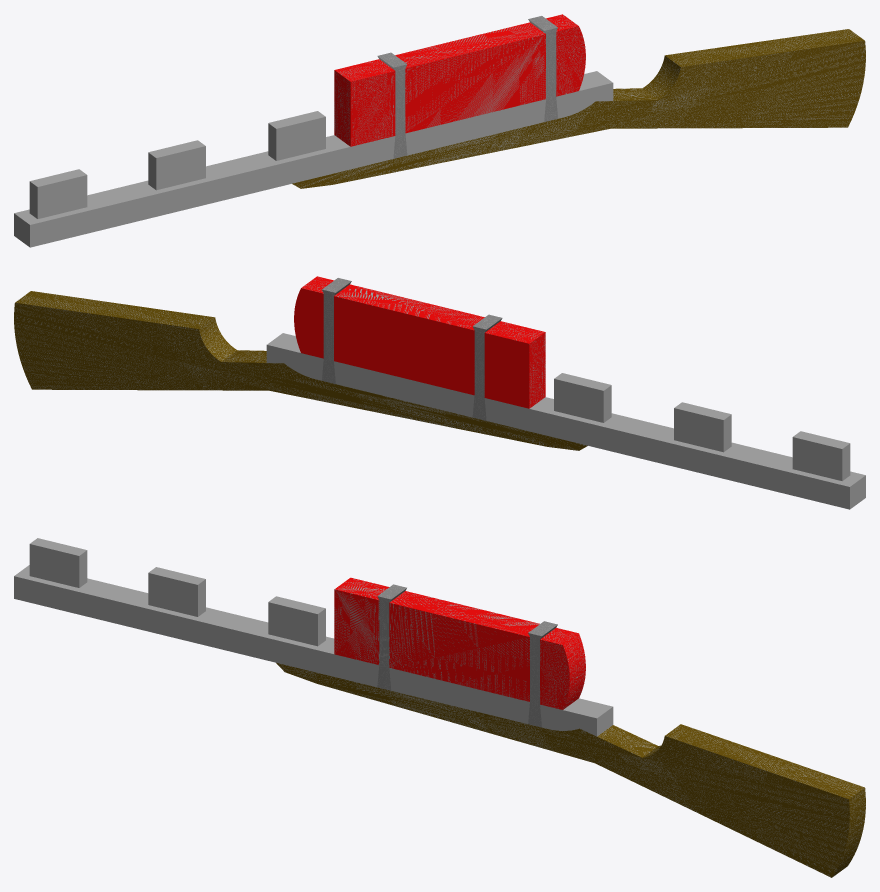
The model's file is lasermusket.dae.
The picture shows the model from 3 angles, top to bottom: view 1: azimuth 30°, elevation 25°; view 2: azimuth 150°, elevation 25°; view 3: azimuth 330°, elevation 25°; orthographic projection.
Parts seen in each view (by area): view 1: group_0 (×9); view 2: group_0 (×11); view 3: group_0 (×9).
Boxes of the visible parts, x1,y1,x2,y2 form: group_0 (×9): (14,14,865,247); group_0 (×11): (14,284,865,509); group_0 (×9): (14,538,865,877).
Bounding box in the file's own units: 47.15 × 1.57 × 9.21.
